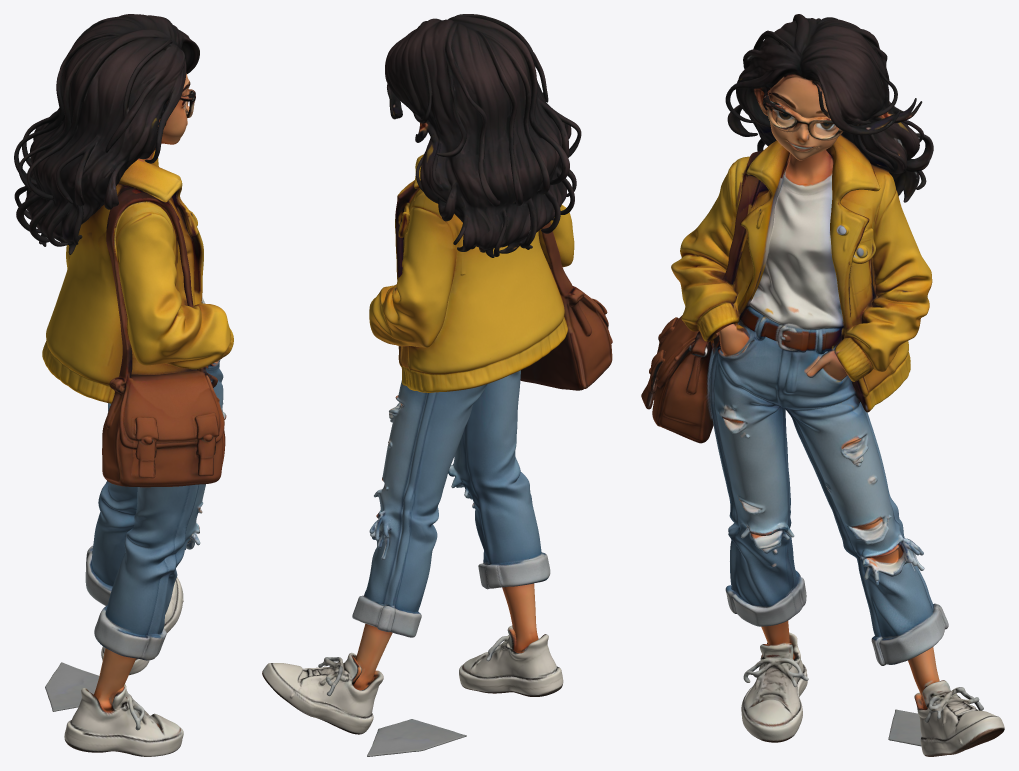
The model's file is profile.glb.
3 views of the same model, side by side, from view 1: azimuth 30°, elevation 25°; view 2: azimuth 150°, elevation 25°; view 3: azimuth 270°, elevation 25° (orthographic). The views are drawn at different scales.
Parts seen in each view (by area): view 1: tripo_node_ac144f00-df69-44af-bf75-9a5ec828ca32; view 2: tripo_node_ac144f00-df69-44af-bf75-9a5ec828ca32; view 3: tripo_node_ac144f00-df69-44af-bf75-9a5ec828ca32.
Part boxes in pixels (x1,y1,x2,y2): tripo_node_ac144f00-df69-44af-bf75-9a5ec828ca32: (14,14,233,756); tripo_node_ac144f00-df69-44af-bf75-9a5ec828ca32: (262,14,612,756); tripo_node_ac144f00-df69-44af-bf75-9a5ec828ca32: (641,14,1004,756).
Bounding box in the file's own units: 0.347 × 1 × 0.4634.
Materials: 1 (1 with a texture image).
